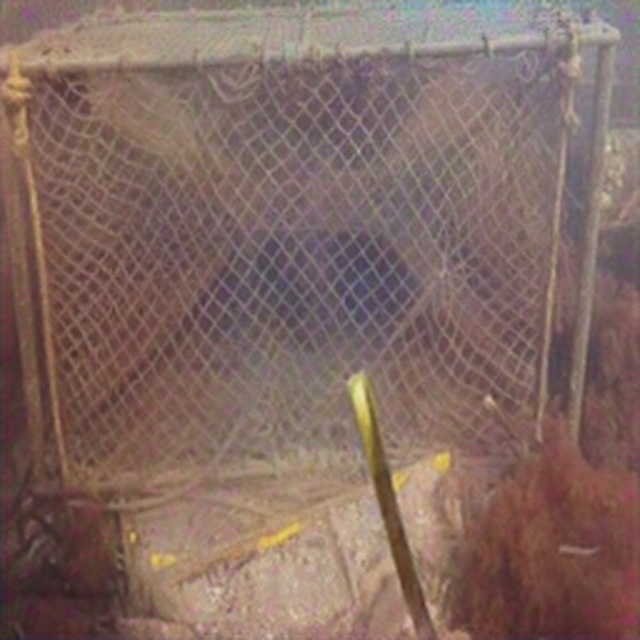mine: (0, 0, 620, 496)
